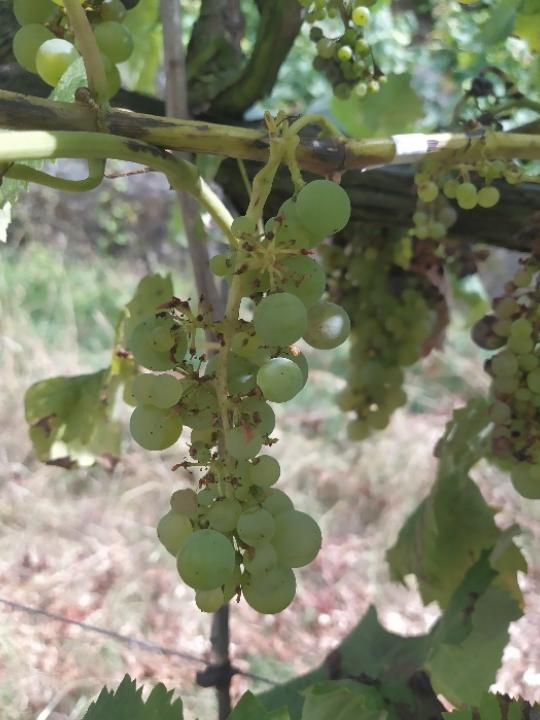grape: (118, 177, 356, 617)
